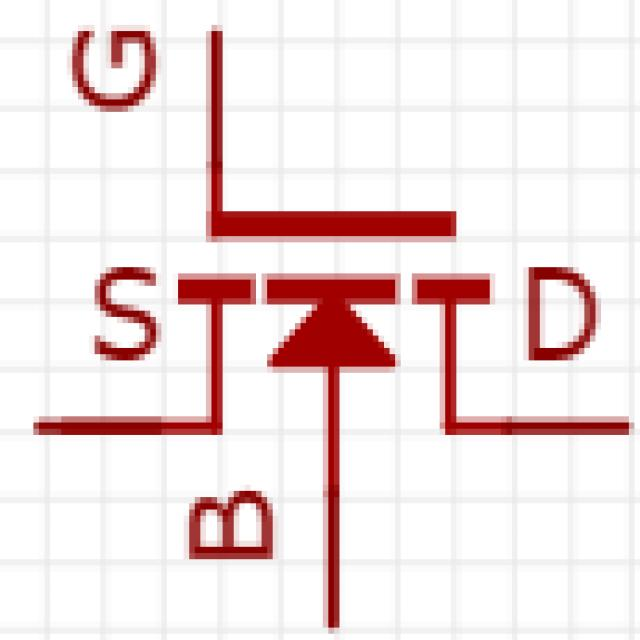nmos: (39, 22, 628, 636)
